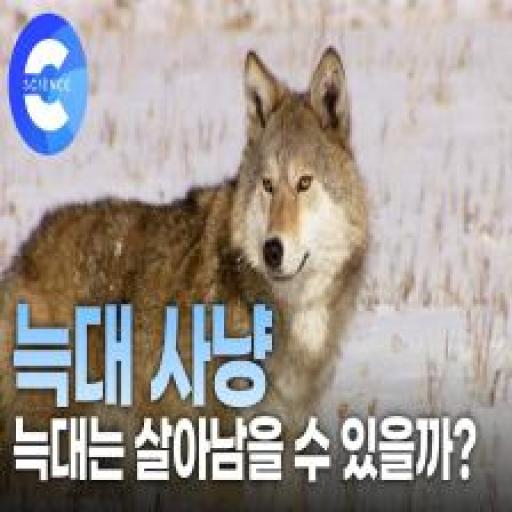wolf: (0, 22, 379, 465)
